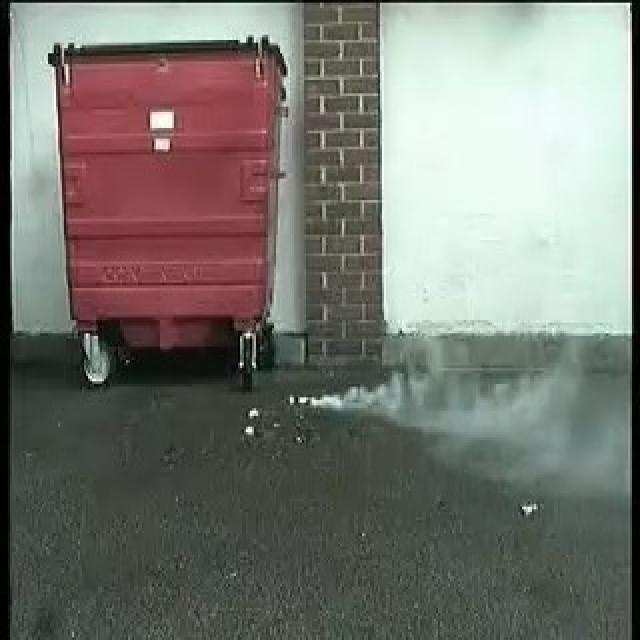smoke: (316, 334, 567, 456)
